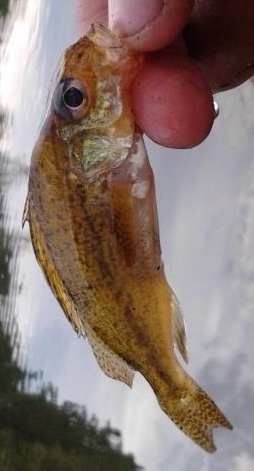Gymnocephalus cernuus: (20, 20, 234, 452)
